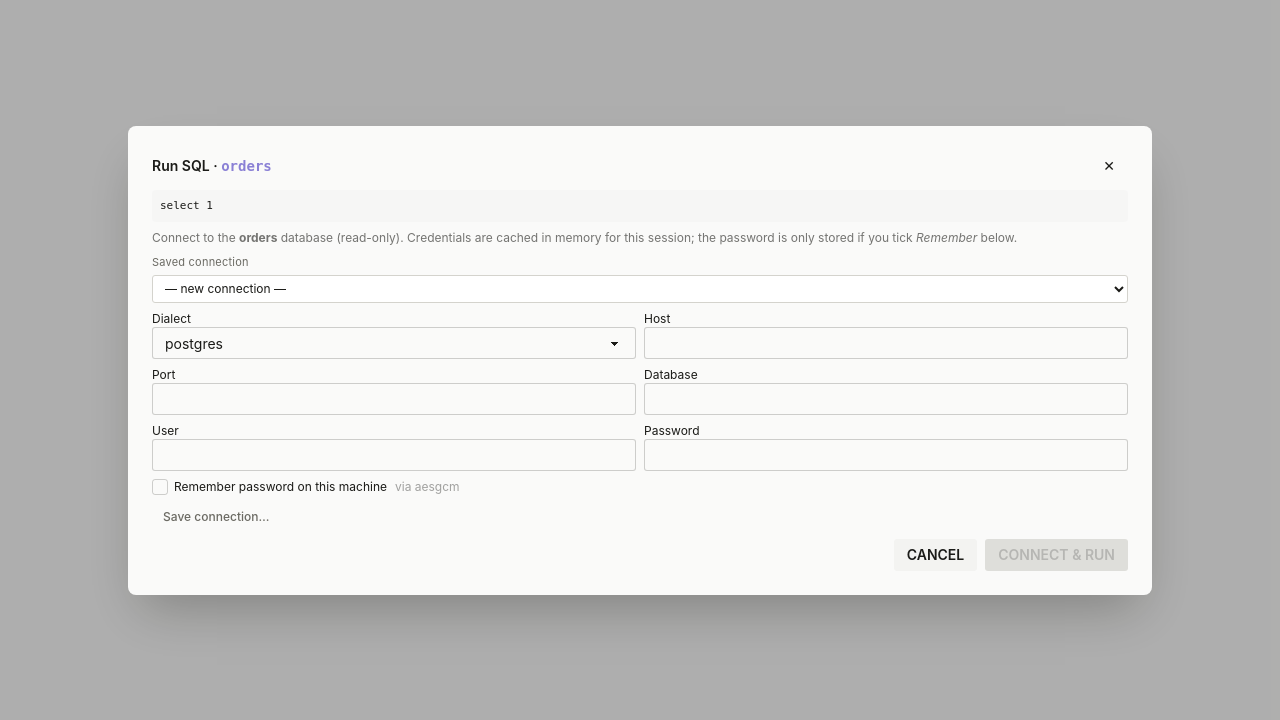
Test: SqlRunModal — saved connection picker › an unmodified selection connects by connectionId only — no password, no explicit params
The width and height of the screenshot is (1280, 720).
Select "Staging PG" in the dropdown with test id "sql-saved-select": (640, 288) top-left (152, 274), bottom-right (1128, 302)
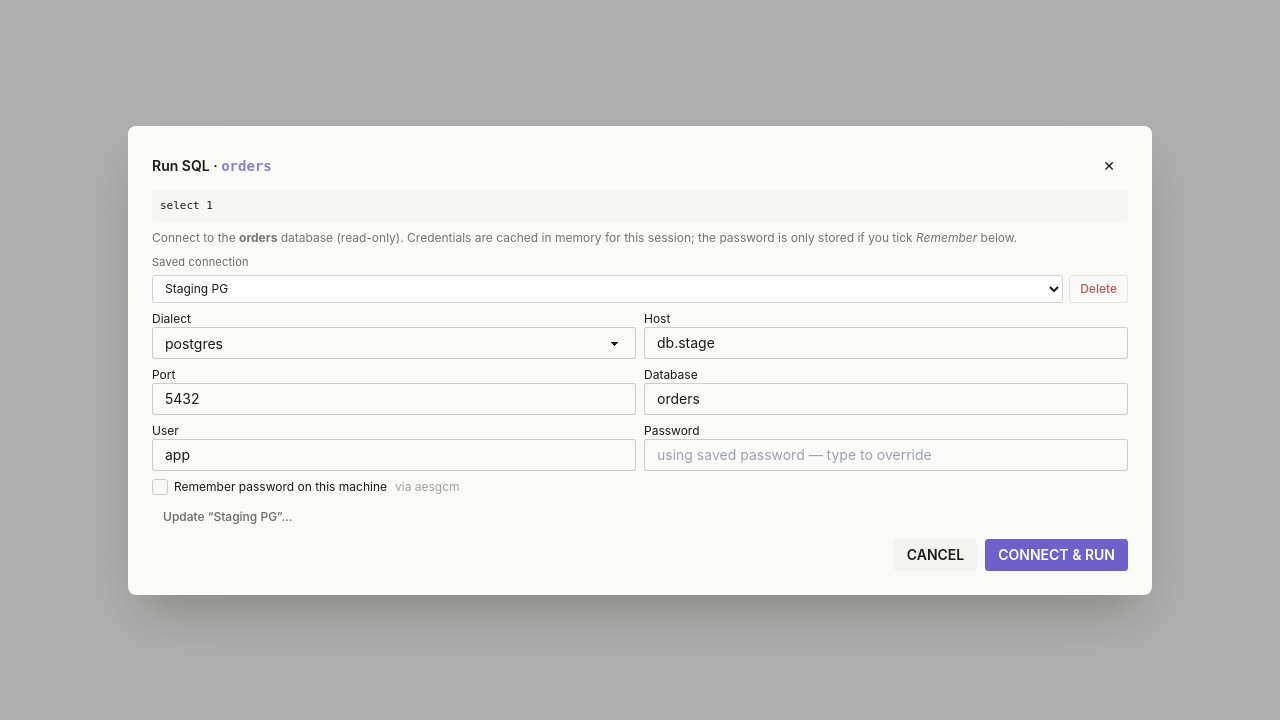
Click the button "Connect & run": (1057, 554) top-left (985, 538), bottom-right (1128, 570)
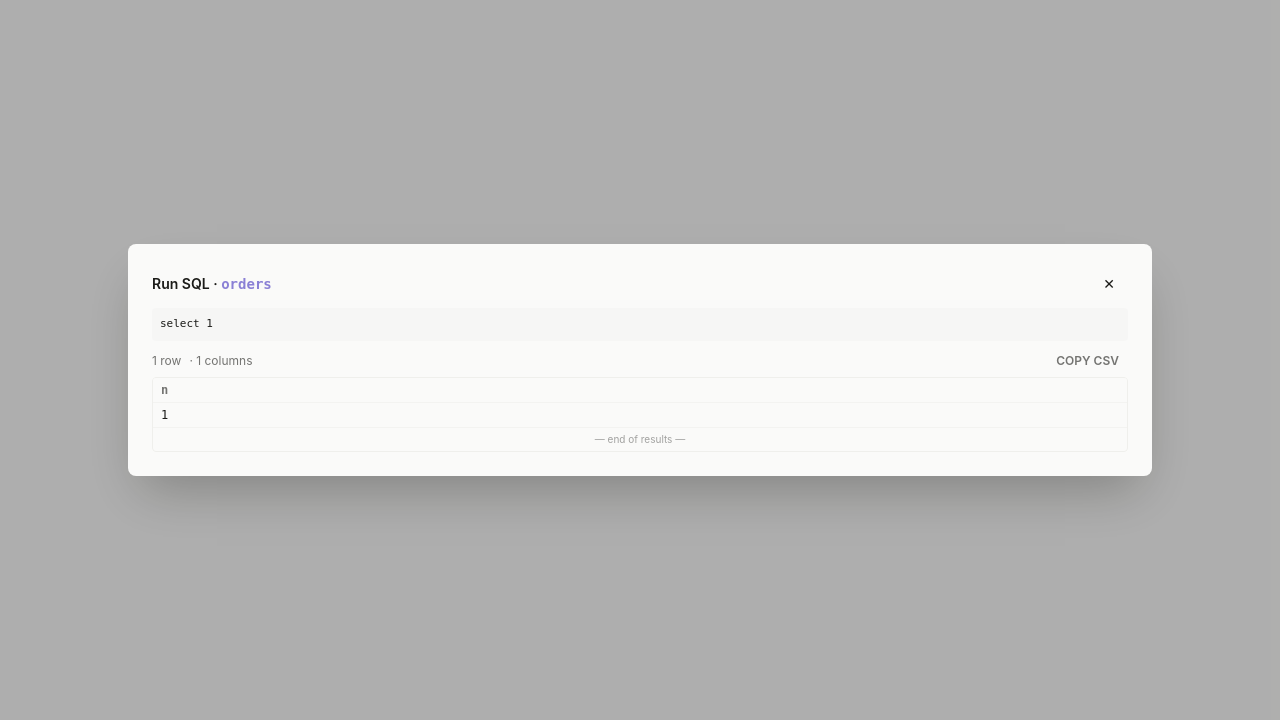
Expected: the text "orders" is shown, top-left (221, 276), bottom-right (272, 292)
Expected: the element with test id "sql-results-grid" is shown, top-left (152, 377), bottom-right (1128, 452)
